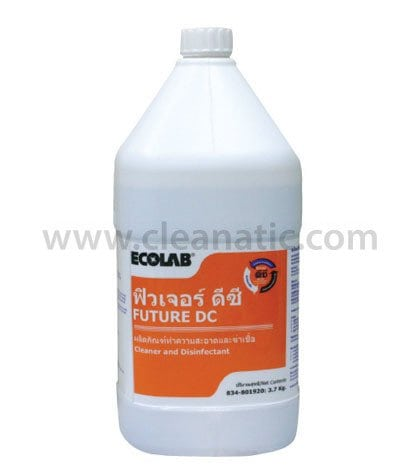Cleaning_solution: (109, 18, 307, 461)
